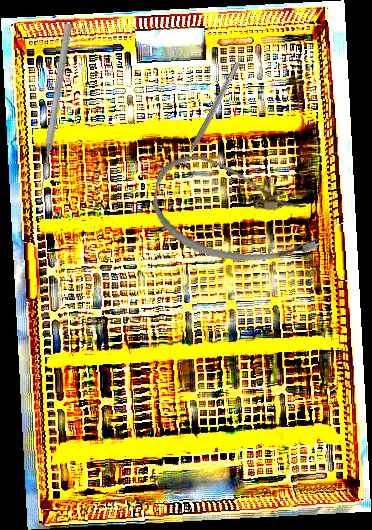Cannula: (146, 149, 330, 273)
Fixation Ring: (174, 58, 247, 175)
Pusher: (36, 22, 74, 191)
